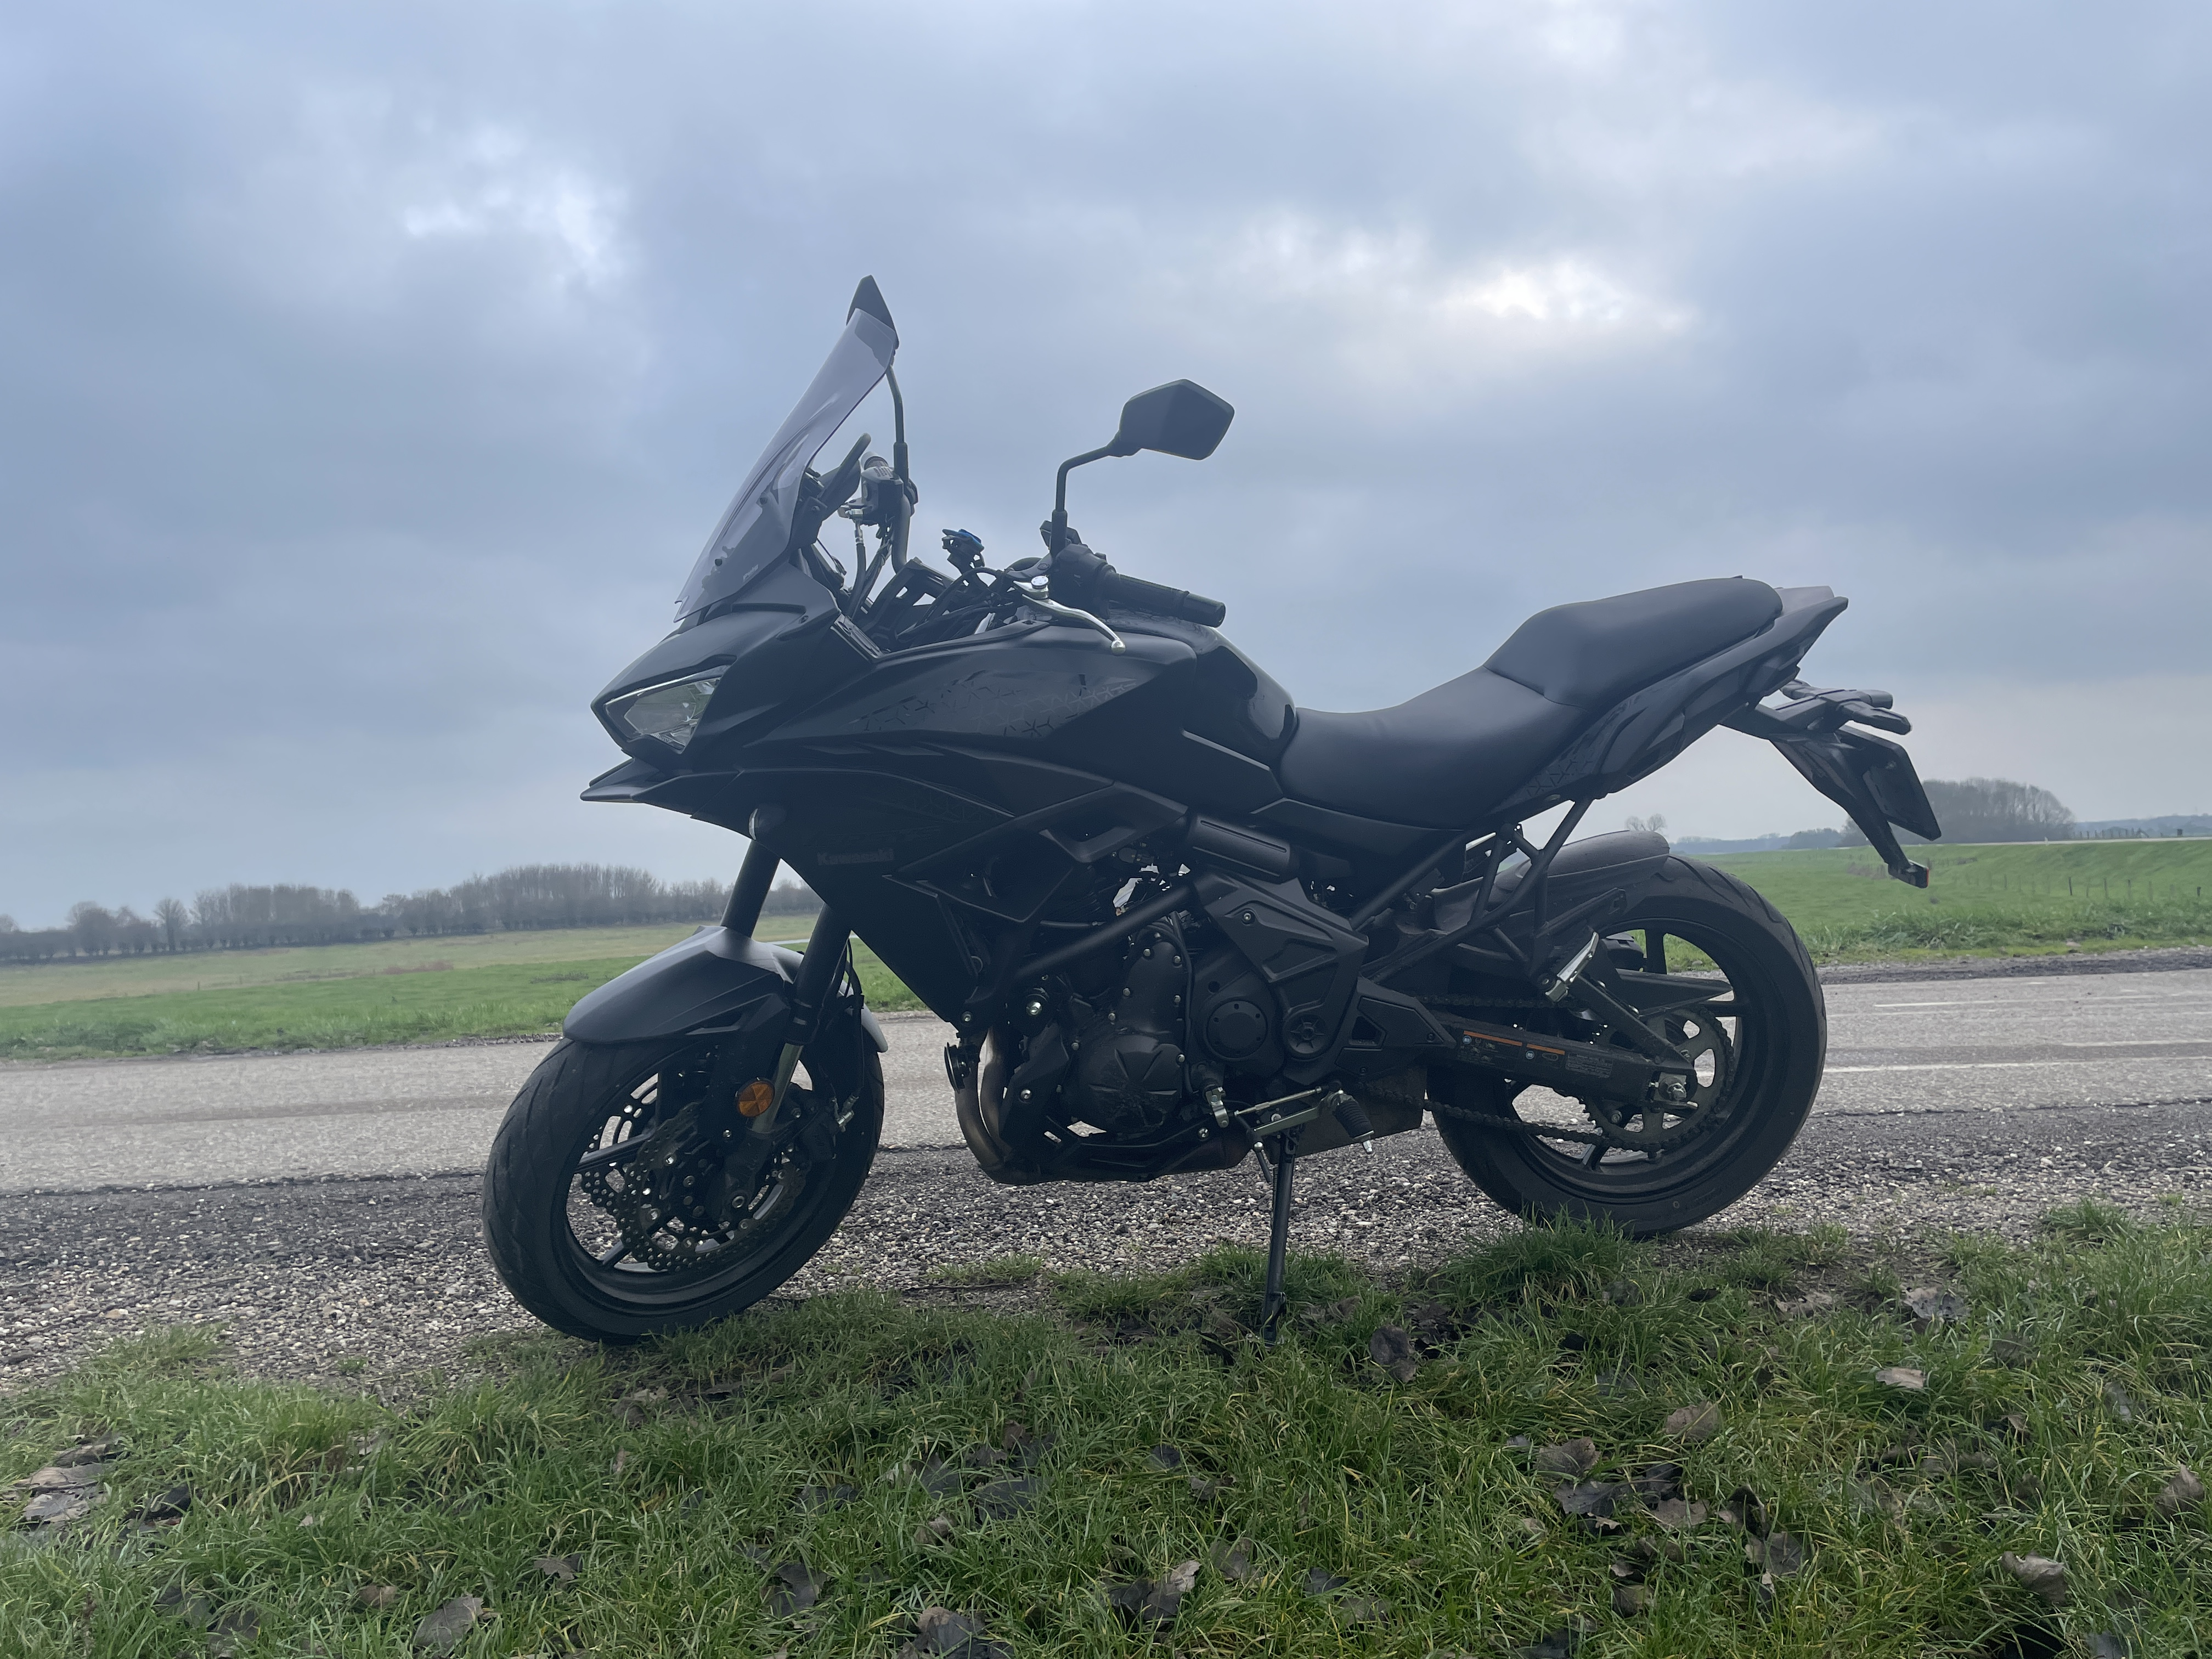motorcycle: (479, 293, 1947, 1340)
